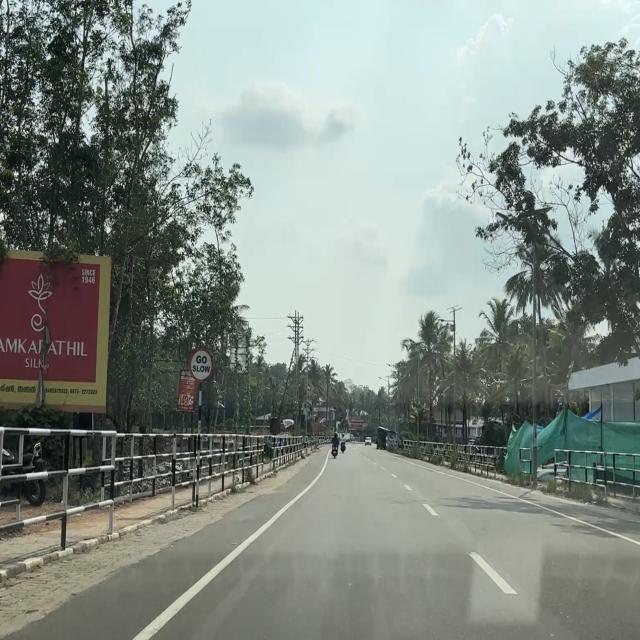GO_SLOW: (188, 348, 214, 383)
